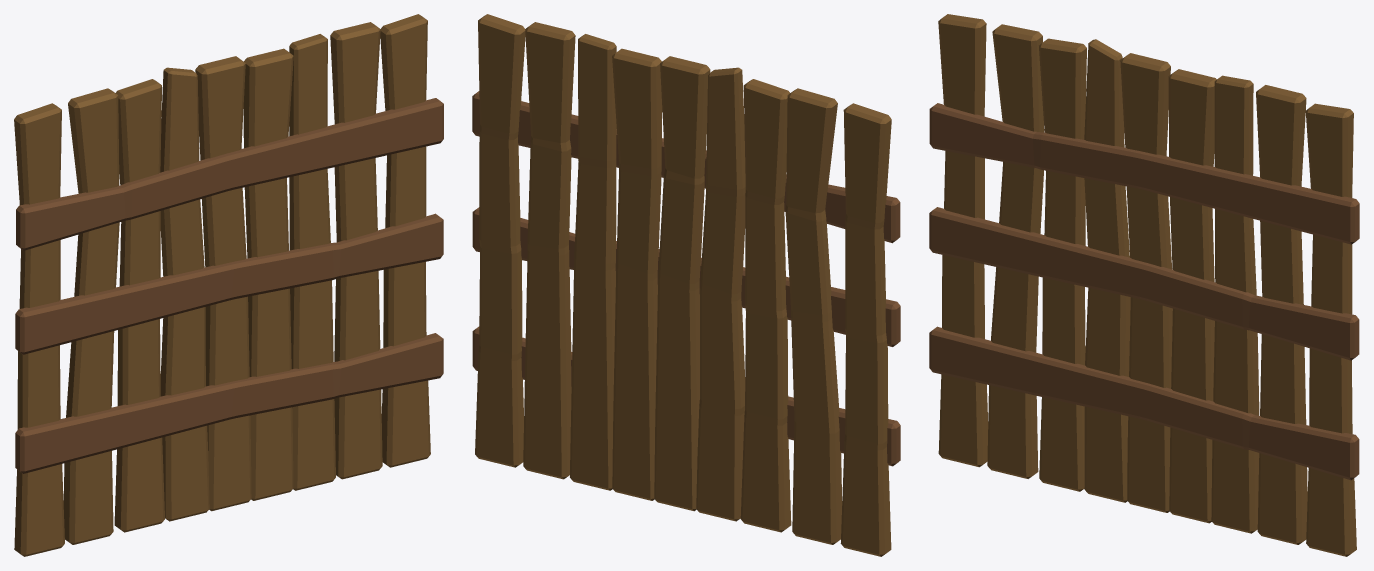
Rendered from wall_of_planks.fbx.
The picture shows the model from 3 angles, left to right: view 1: azimuth 30°, elevation 25°; view 2: azimuth 150°, elevation 25°; view 3: azimuth 330°, elevation 25°; orthographic projection.
Parts seen in each view (by area): view 1: wall_of_planks; view 2: wall_of_planks; view 3: wall_of_planks.
Part boxes in pixels (<box>): wall_of_planks: <box>14,14,443,556</box>; wall_of_planks: <box>472,14,900,556</box>; wall_of_planks: <box>929,14,1359,556</box>.
Bounding box in the file's own units: 202 × 205 × 11.49.
